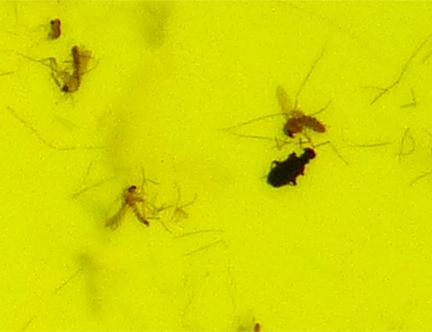Coleoptera: (264, 146, 320, 191)
Nematocera: (100, 182, 166, 232), (277, 100, 332, 142), (56, 43, 83, 96), (48, 15, 62, 41)
